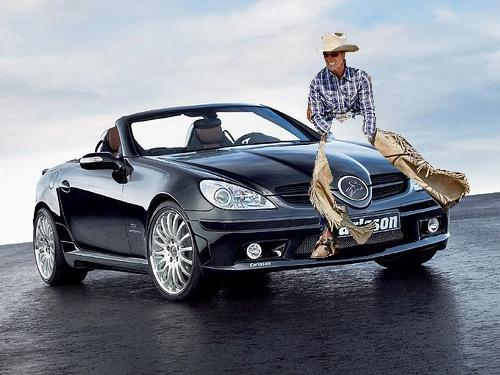tampered: (308, 34, 470, 258)
